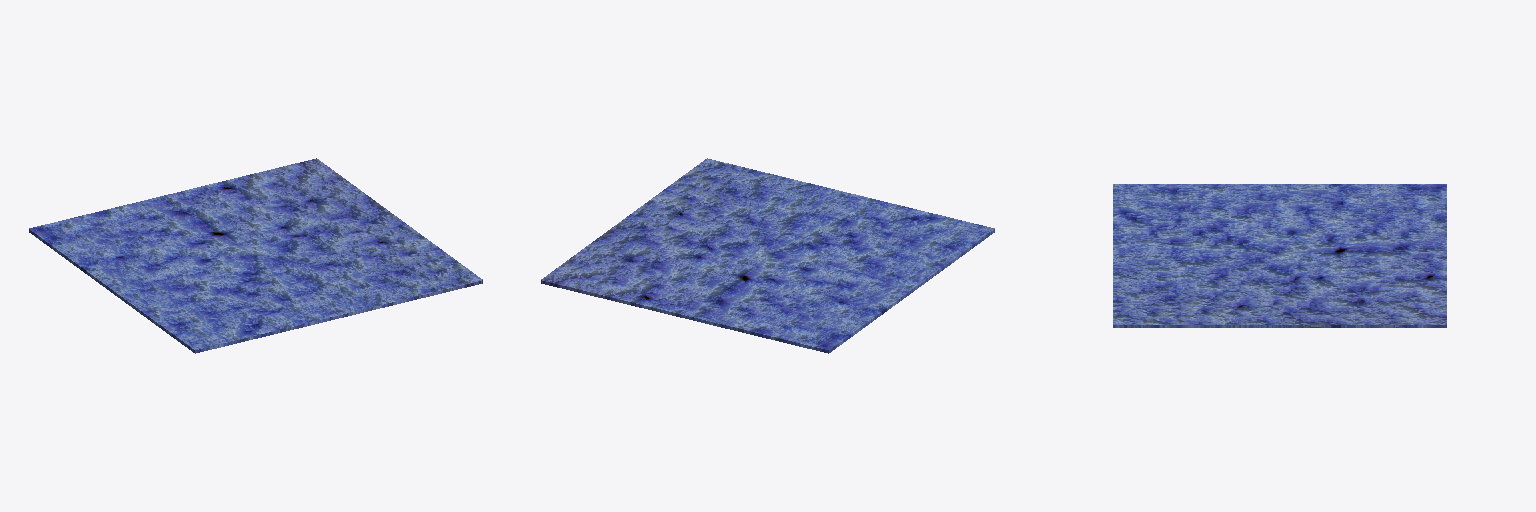
The picture shows the model from 3 angles: view 1: azimuth 30°, elevation 25°; view 2: azimuth 150°, elevation 25°; view 3: azimuth 270°, elevation 25°; orthographic projection.
Visible parts, largest first — view 1: 平面.008; view 2: 平面.008; view 3: 平面.008.
Part boxes in pixels (x1,y1,x2,y2): 平面.008: (29,158,482,353); 平面.008: (541,158,994,353); 平面.008: (1113,184,1446,327).
Size of the model in its own units: 2.73 by 0.0291 by 2.73.
1 materials, 1 textured.